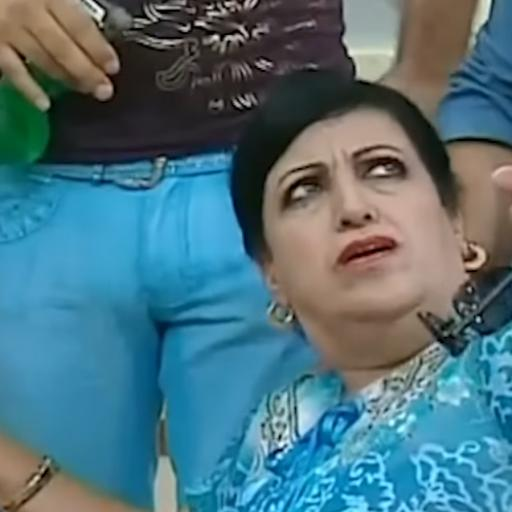jannet: (260, 109, 464, 357)
